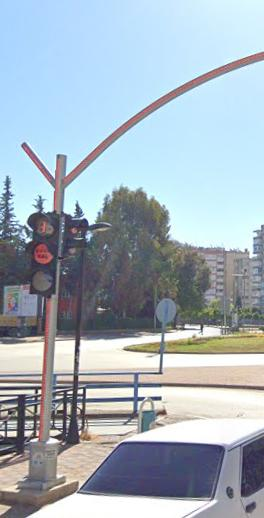redlight: (23, 211, 59, 297)
